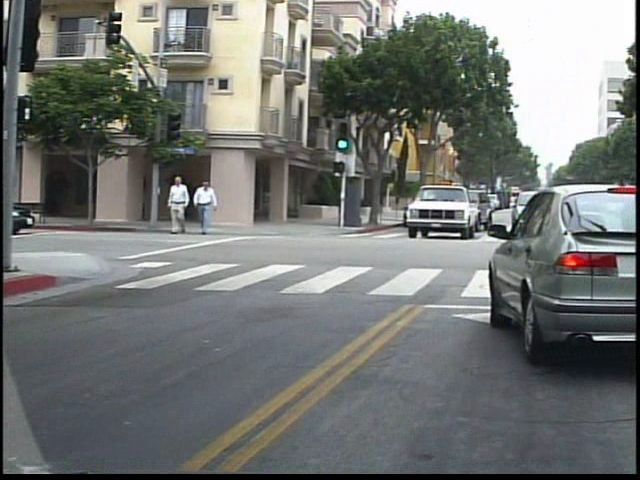person: (172, 174, 199, 242), (200, 174, 228, 239)
